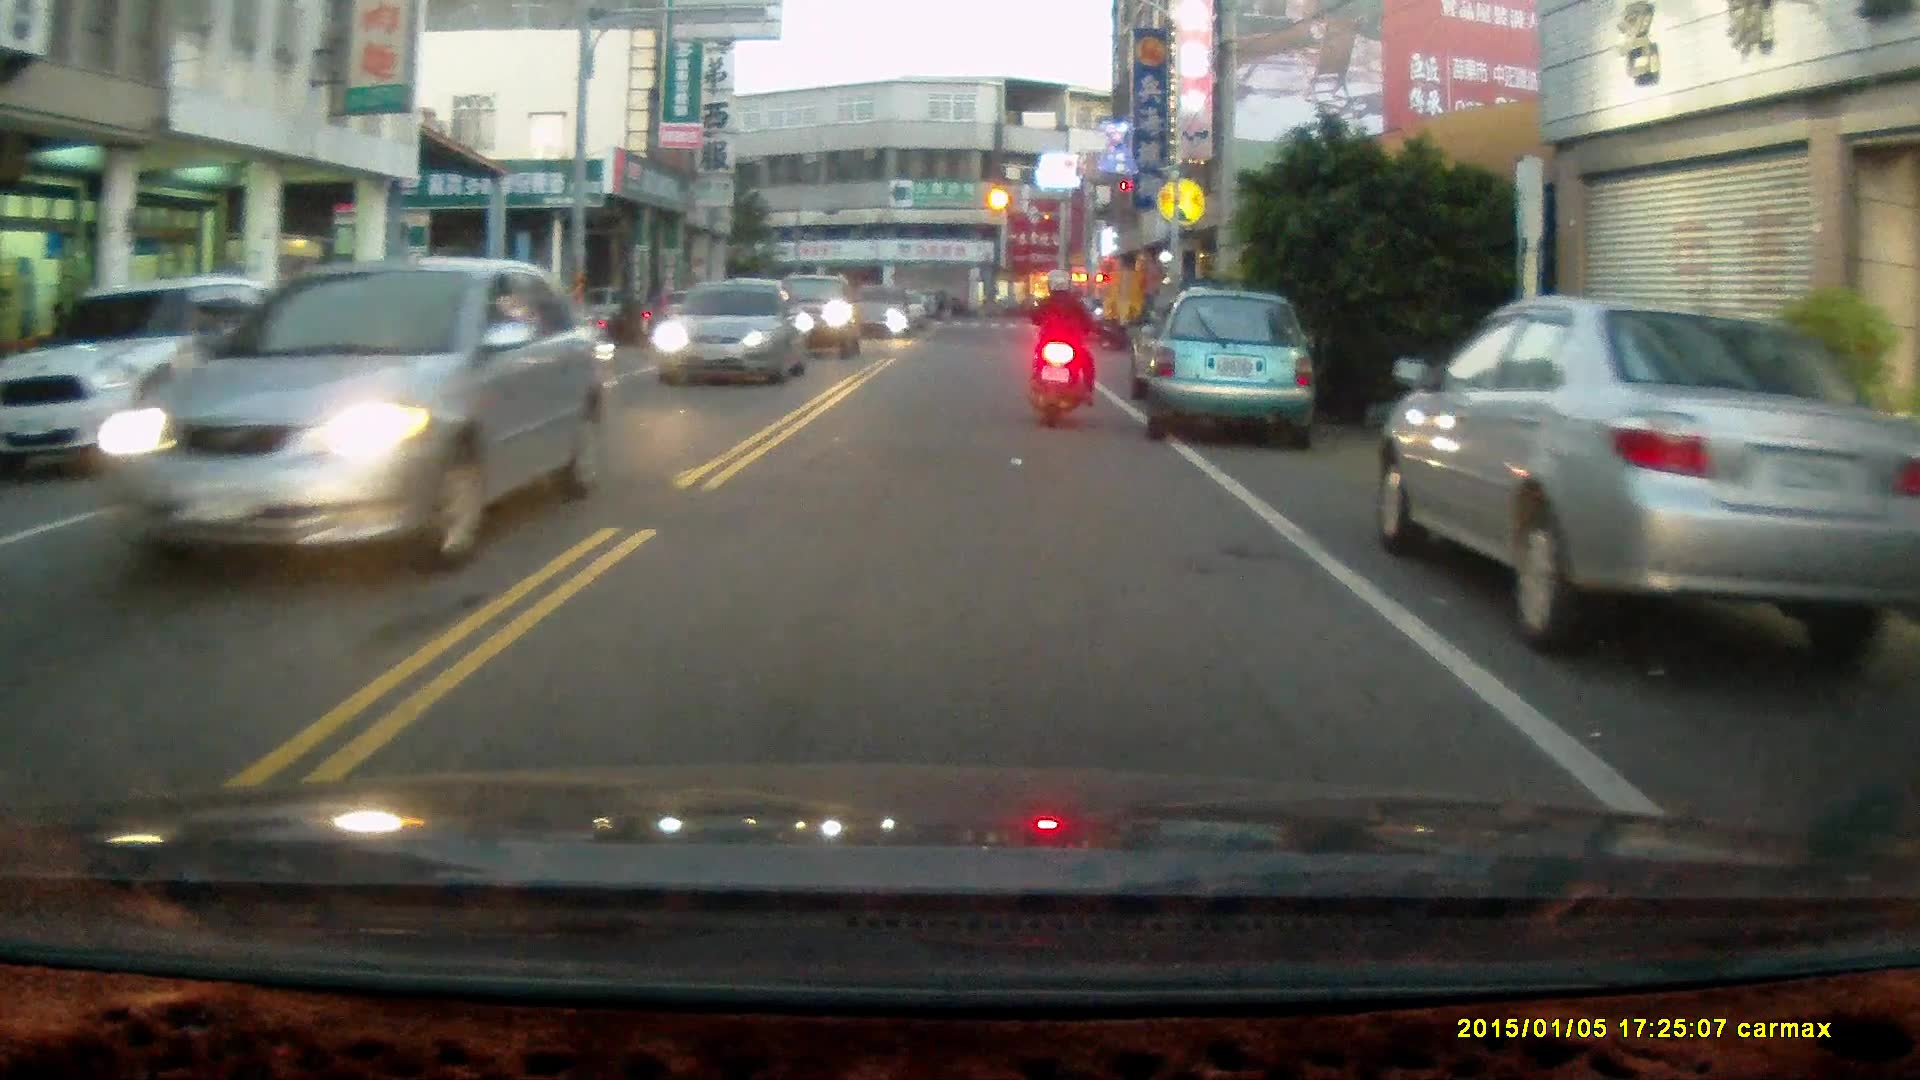rider: (1028, 262, 1106, 425)
vehicle: (1375, 294, 1902, 658), (111, 255, 601, 570), (1, 272, 304, 480), (1143, 289, 1319, 442), (653, 278, 805, 388), (745, 269, 867, 362)
